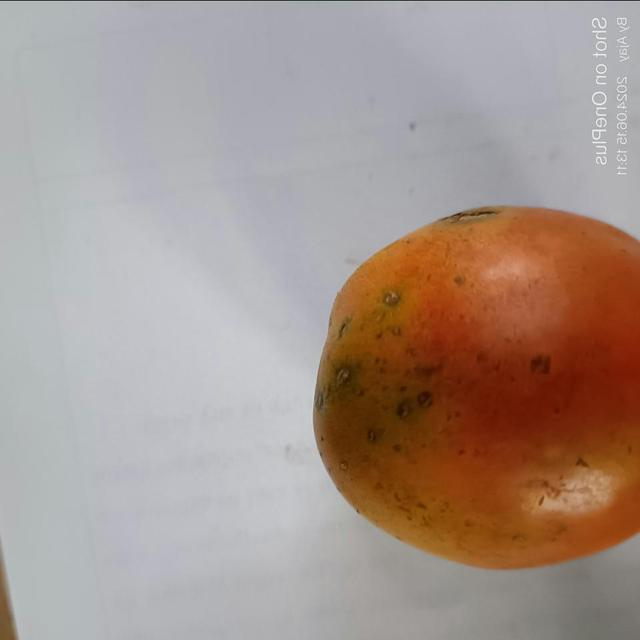Bacterial Spot Fruit: (17, 16, 359, 267)
